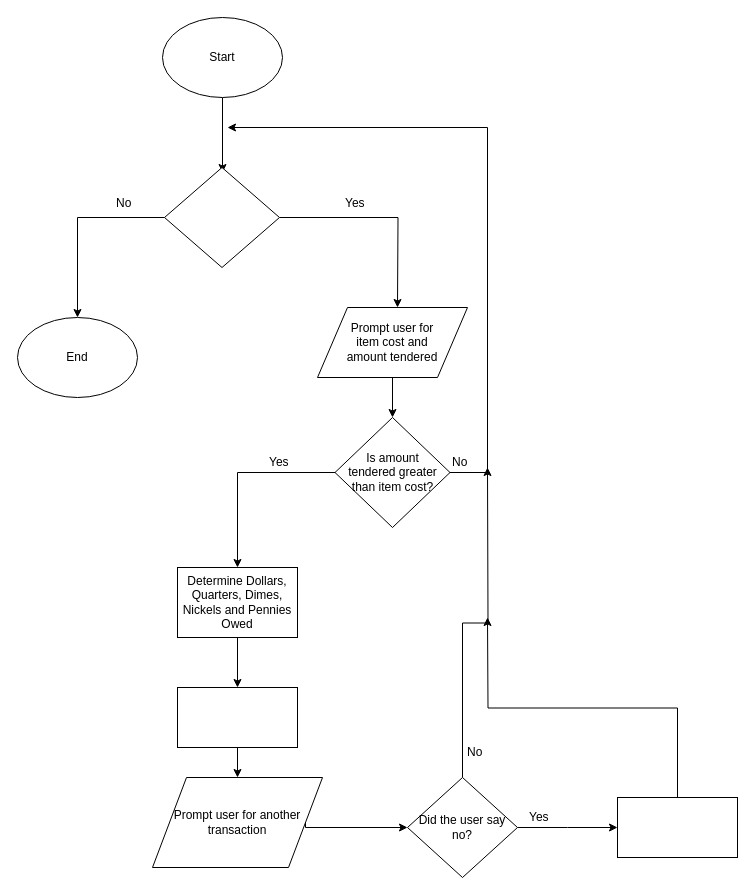
This 755x895 diagram has some shape labels left out. The shapes that lost their labels are listed below. From the top down, each one's centre as x and y in pixels, then its label:
At (222,217): "Is newTransaction set to True?".
At (237,717): "Print out change owed to user".
At (677,827): "Set newTransaction to False".
